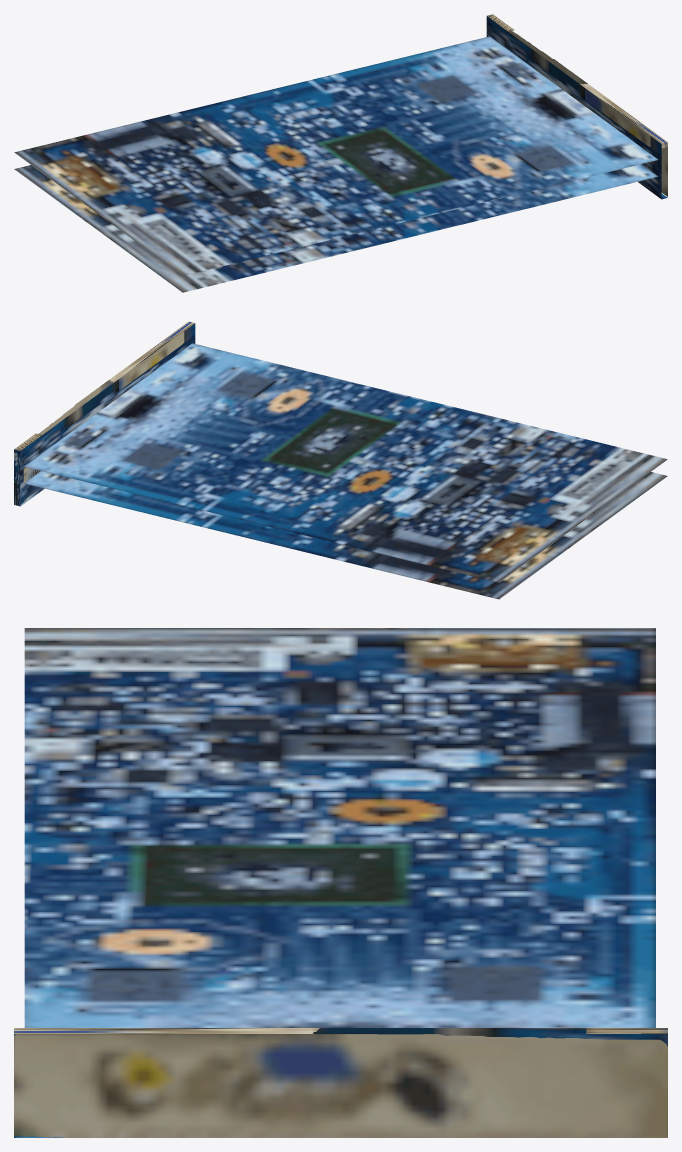
Rendered from GraphicCard.fbx.
3 views of the same model, one above another, from view 1: azimuth 30°, elevation 25°; view 2: azimuth 150°, elevation 25°; view 3: azimuth 270°, elevation 25° (orthographic). The views are drawn at different scales.
Visible parts, largest first — view 1: GraphicCard; view 2: GraphicCard; view 3: GraphicCard.
Part boxes in pixels (bbox=[...]): GraphicCard: bbox=[14, 14, 667, 292]; GraphicCard: bbox=[14, 321, 667, 599]; GraphicCard: bbox=[14, 628, 667, 1137].
Size of the model in its own units: 16.22 by 1.78 by 10.19.
